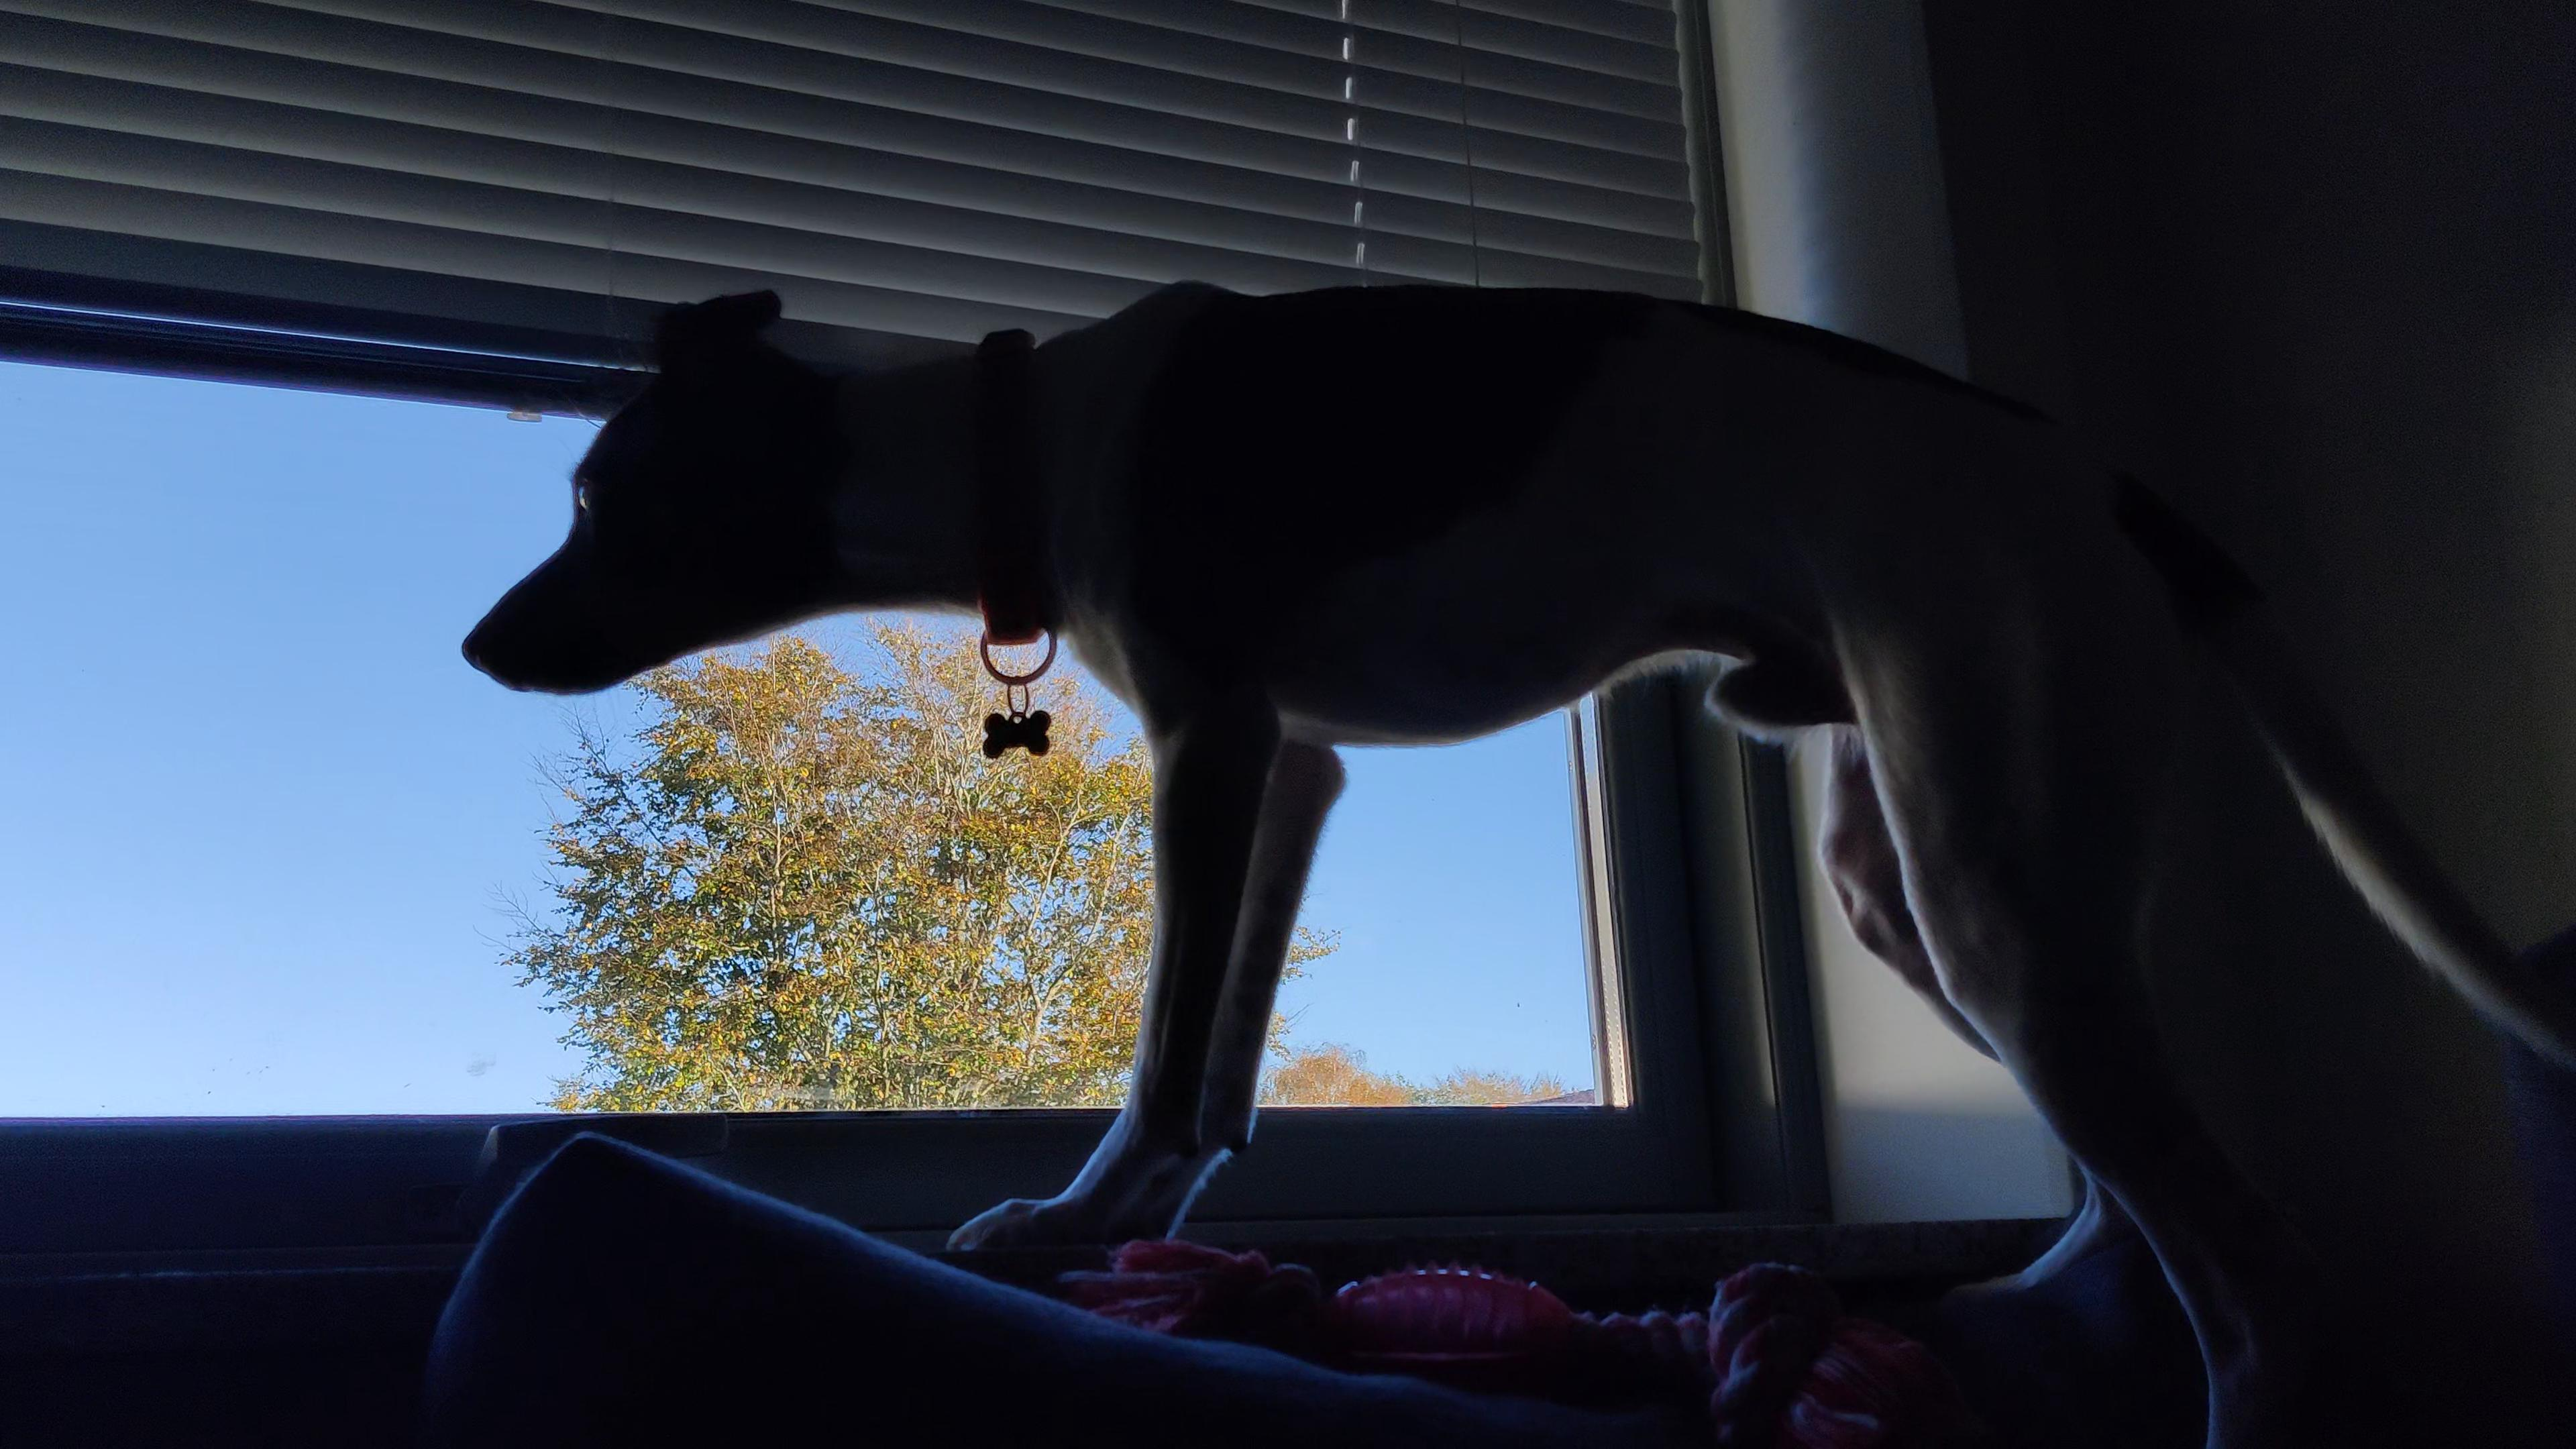Dog: (453, 267, 2576, 1449)
